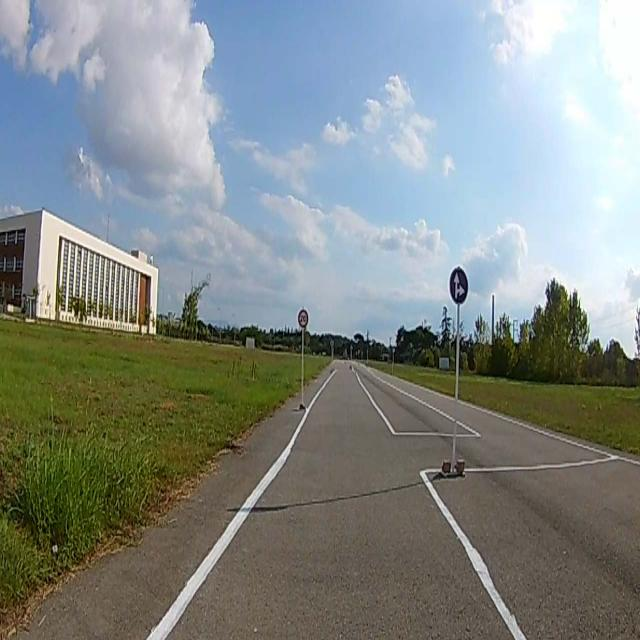20: (298, 309, 308, 328)
ilerisag: (448, 267, 468, 305)
